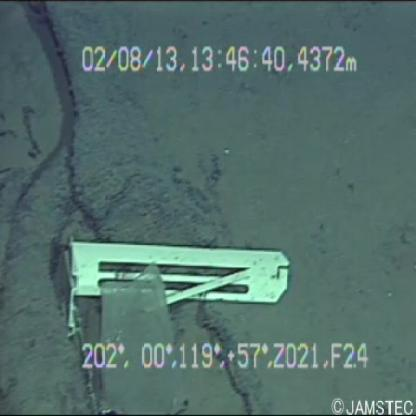Rác: (46, 211, 319, 332)
